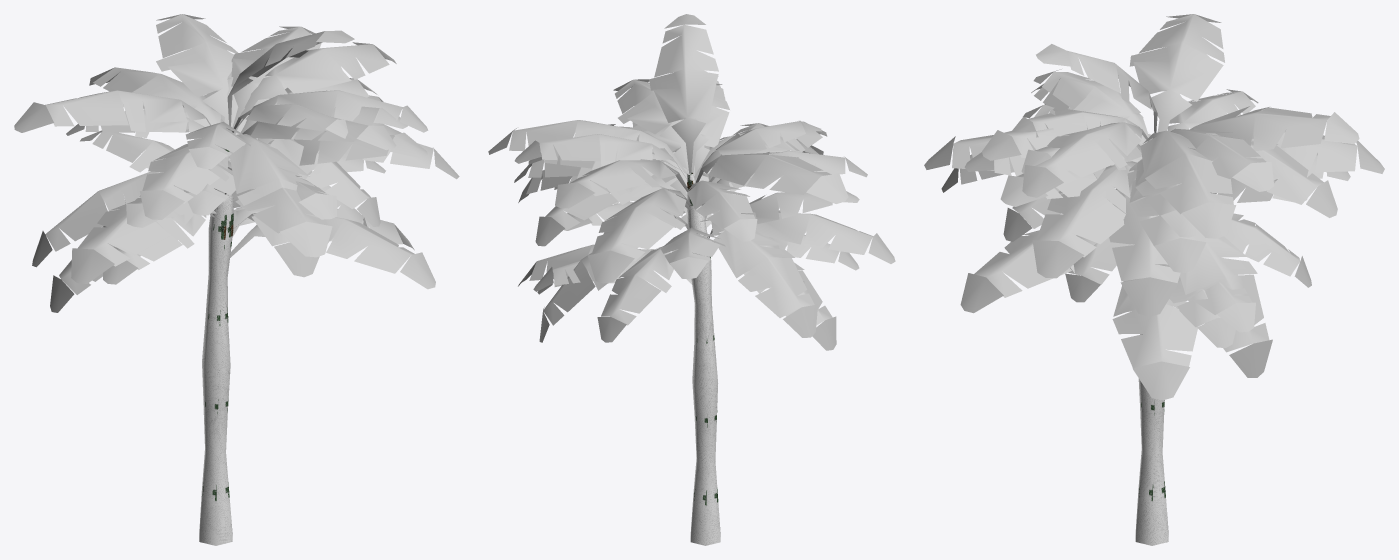
Rendered from banana_tree.dae.
3 renders of one model, left to right at view 1: azimuth 30°, elevation 25°; view 2: azimuth 150°, elevation 25°; view 3: azimuth 270°, elevation 25°, orthographic. The views are drawn at different scales.
Visible parts, largest first — view 1: leaf34 (×37), stemslevel0; view 2: leaf34 (×38), stemslevel0; view 3: leaf34 (×46), stemslevel0.
Boxes of the visible parts, x1,y1,x2,y2 form: leaf34 (×37): (14,14,435,312); stemslevel0: (199,131,233,545); leaf34 (×38): (509,24,873,350); stemslevel0: (687,172,720,545); leaf34 (×46): (952,14,1359,400); stemslevel0: (1135,334,1168,545).
Bounding box in the file's own units: 93.65 × 97.21 × 121.
